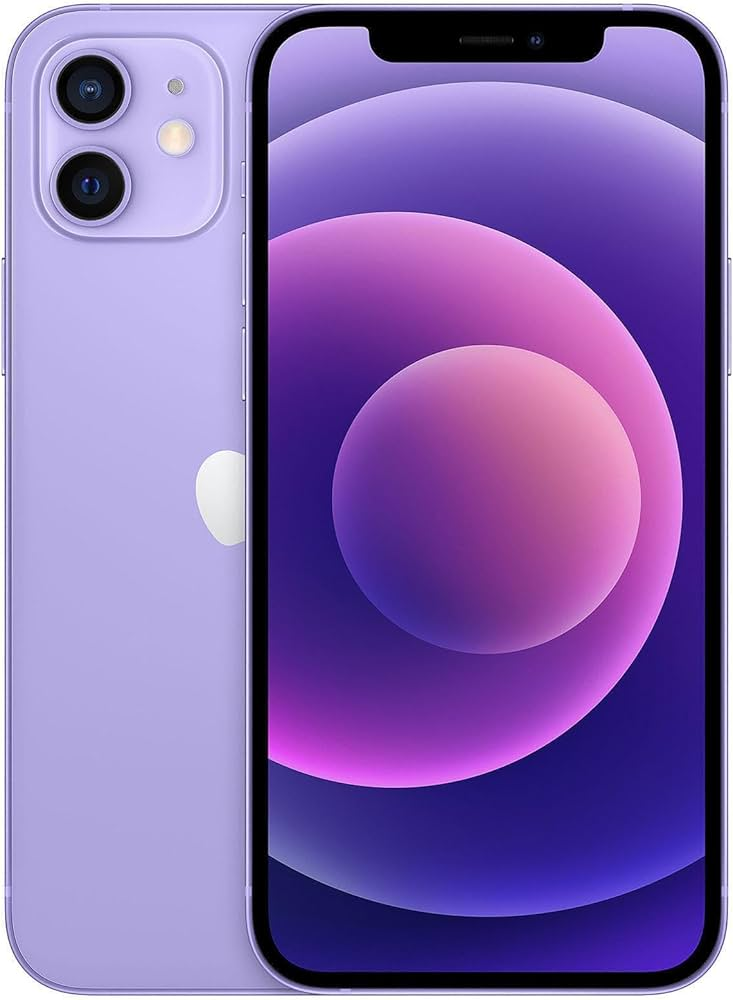-iphone12: (12, 22, 733, 1000)
